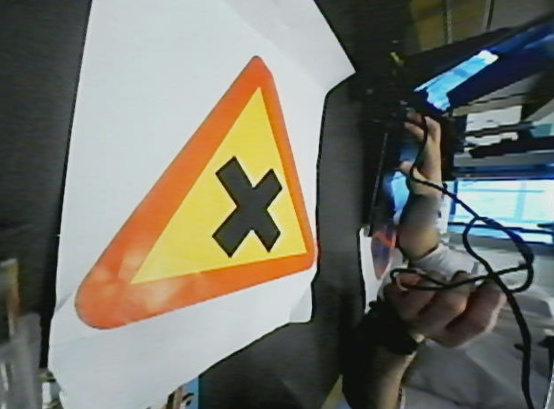junction: (71, 37, 325, 335)
